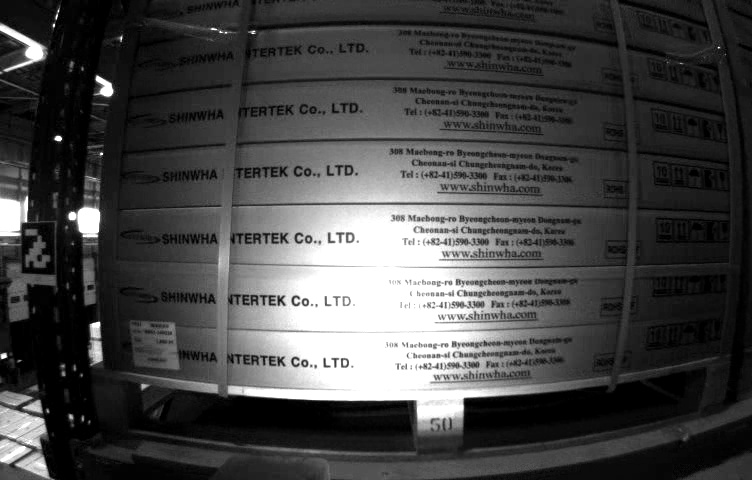True Barcode: (132, 320, 175, 374)
